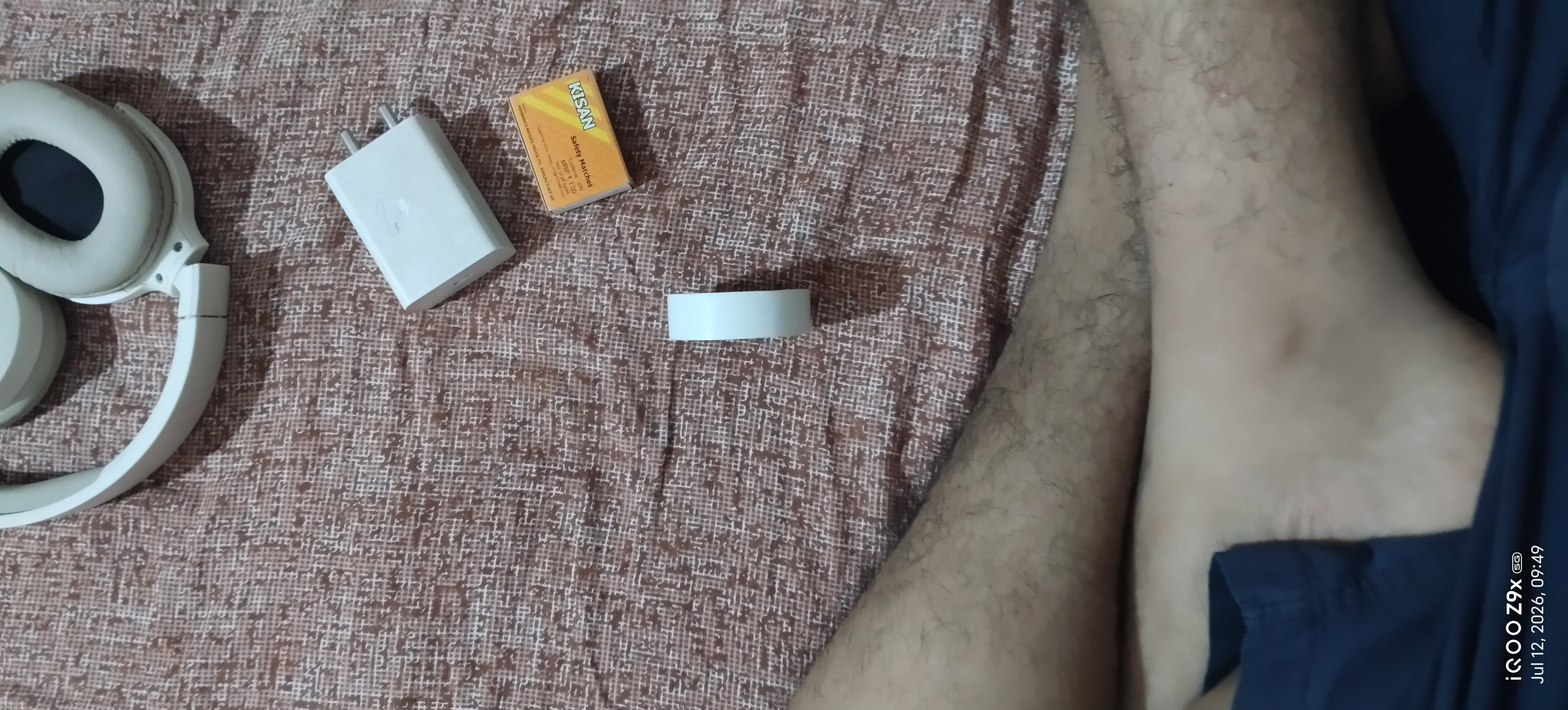charger: (301, 90, 528, 334)
matchbox: (495, 50, 656, 227)
tape_roll: (651, 272, 836, 365)
